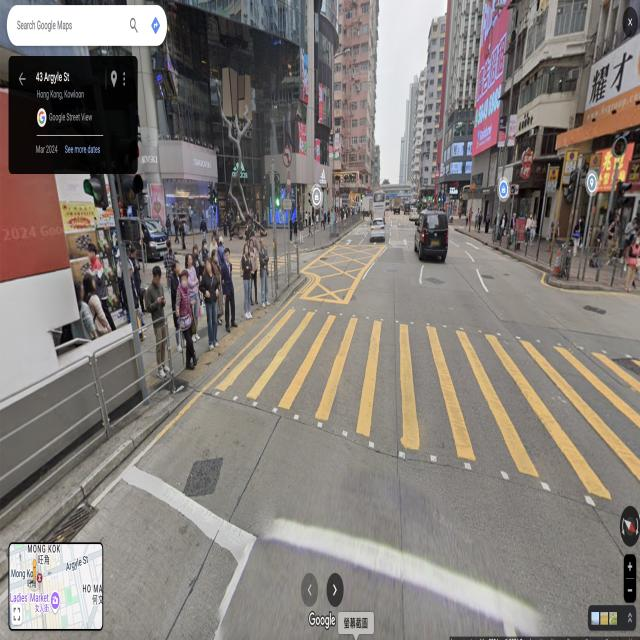Order-Sign: (547, 169, 559, 193), (566, 152, 577, 168), (283, 148, 291, 166), (591, 156, 600, 170), (286, 171, 291, 195), (335, 182, 339, 192), (327, 182, 329, 193), (447, 193, 449, 202), (442, 183, 444, 188)
Street-Direction-Sign: (283, 199, 292, 209)
Warning-Sign: (511, 184, 518, 195)
